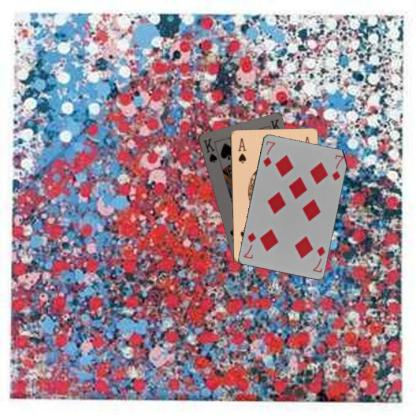7d: (260, 138, 276, 168), (310, 244, 326, 274)
As: (235, 135, 247, 164)
Ks: (201, 136, 219, 164)
